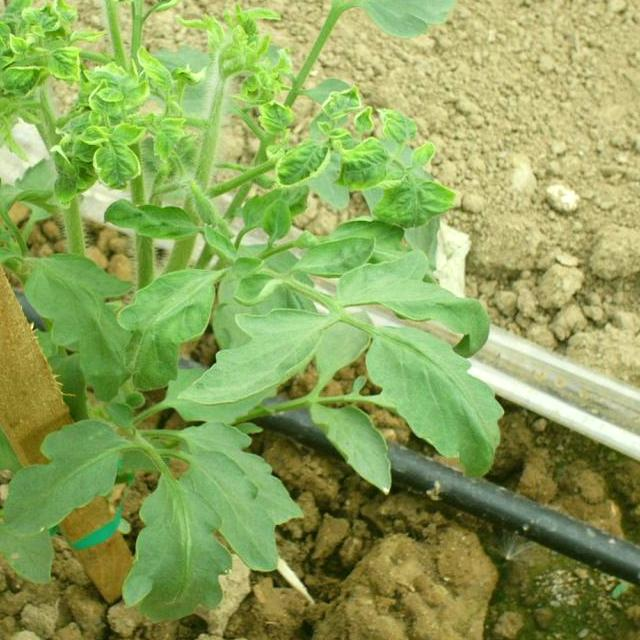Tomato leaf: (367, 323, 498, 488), (194, 286, 363, 399), (16, 242, 138, 389), (119, 468, 232, 625), (0, 418, 124, 541), (179, 448, 293, 571), (307, 397, 395, 491), (288, 232, 376, 282), (358, 0, 460, 43), (260, 0, 354, 15)
